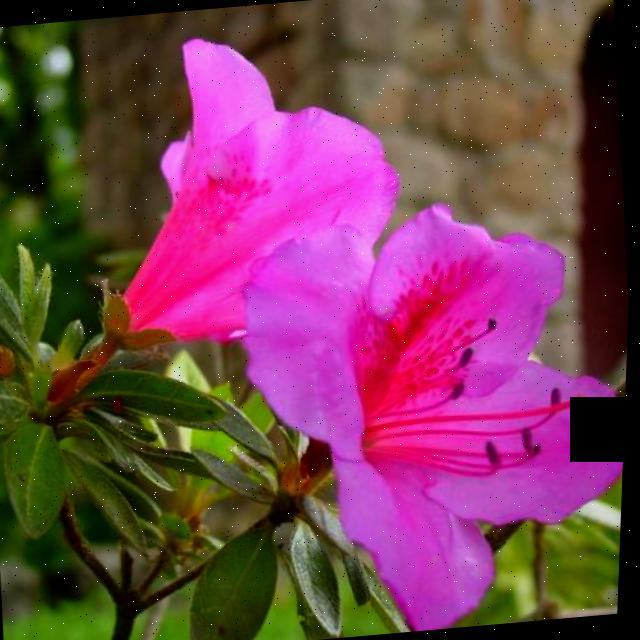azalea: (203, 194, 634, 628), (0, 20, 424, 390)
